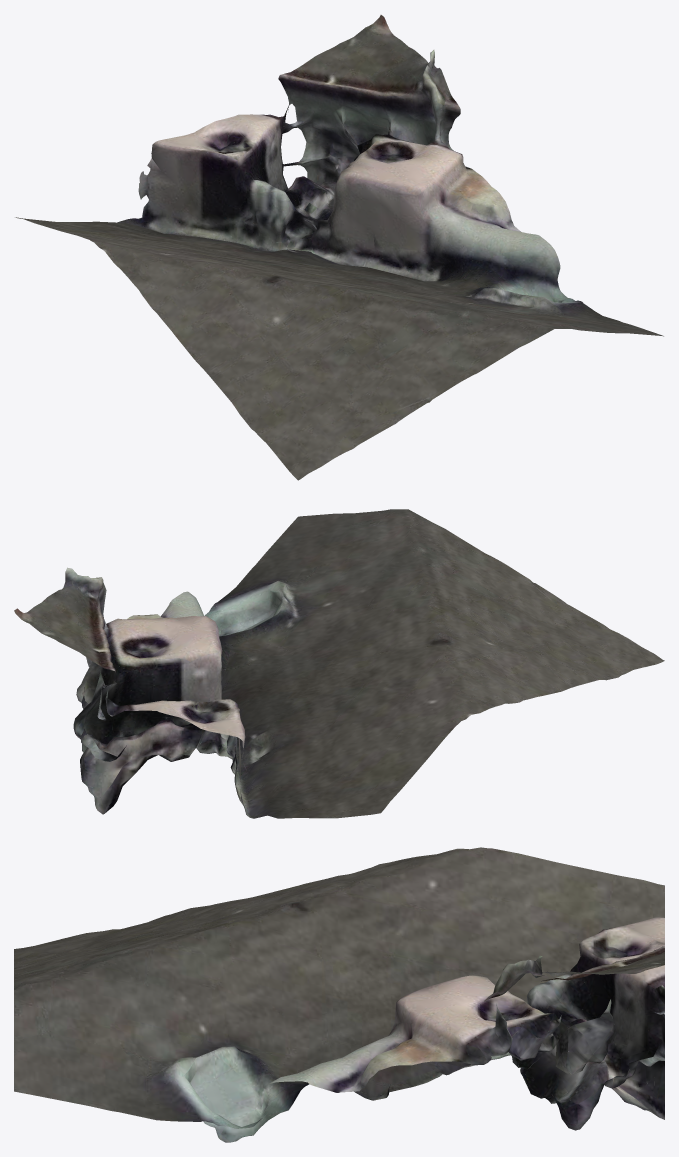
The picture shows the model from 3 angles, top to bottom: view 1: azimuth 30°, elevation 25°; view 2: azimuth 150°, elevation 25°; view 3: azimuth 270°, elevation 25°; orthographic projection. The views are drawn at different scales.
Bounding box in the file's own units: 4.96 × 2.41 × 6.65.
Materials: 1 (1 with a texture image).
